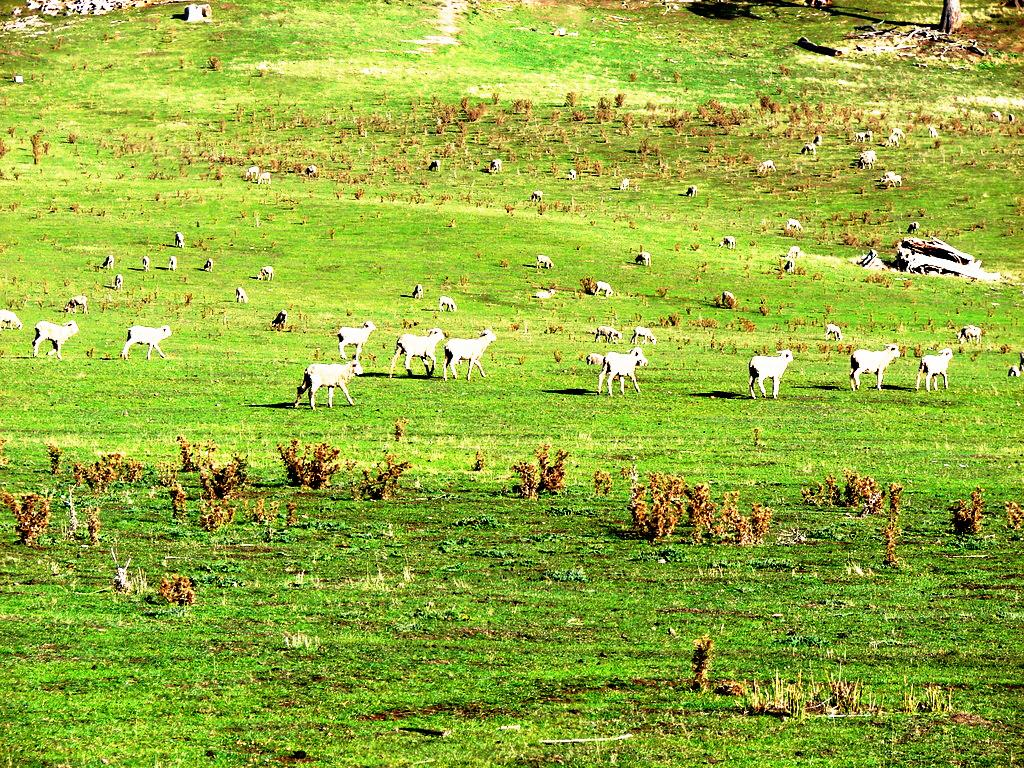Sheep: (294, 360, 362, 404), (846, 346, 904, 391), (444, 329, 496, 379), (388, 328, 440, 376), (597, 347, 644, 394), (748, 350, 792, 398), (30, 320, 79, 360), (336, 320, 376, 360), (916, 351, 954, 393), (119, 327, 170, 358), (630, 325, 656, 346), (592, 328, 623, 344), (0, 310, 22, 329), (962, 325, 982, 344), (754, 160, 778, 175), (66, 298, 90, 312), (959, 328, 981, 342), (256, 264, 275, 280), (438, 297, 456, 313), (536, 254, 554, 270), (633, 251, 650, 267), (828, 324, 844, 341), (717, 236, 736, 250), (592, 283, 612, 296), (786, 217, 804, 230), (587, 352, 604, 365), (721, 292, 736, 305), (244, 166, 260, 178), (274, 310, 286, 326), (782, 259, 796, 272), (236, 288, 248, 302), (534, 290, 555, 298), (801, 144, 816, 155), (884, 136, 900, 146), (411, 286, 424, 298), (884, 178, 902, 186), (908, 222, 920, 234), (1008, 366, 1020, 377), (202, 258, 212, 271), (258, 172, 271, 182), (787, 246, 800, 256), (989, 110, 1002, 120), (176, 231, 184, 247), (890, 130, 906, 138), (140, 256, 149, 270), (619, 178, 629, 190), (812, 136, 824, 146), (928, 126, 938, 138), (168, 256, 176, 270), (880, 174, 894, 182), (490, 160, 502, 169), (427, 161, 440, 169), (865, 150, 878, 158), (103, 258, 115, 266), (530, 191, 542, 199), (568, 168, 576, 180), (854, 132, 866, 140), (688, 186, 698, 195), (858, 160, 872, 166), (115, 276, 123, 286), (306, 166, 316, 174), (1006, 114, 1016, 122), (864, 154, 872, 162), (868, 130, 874, 138)
